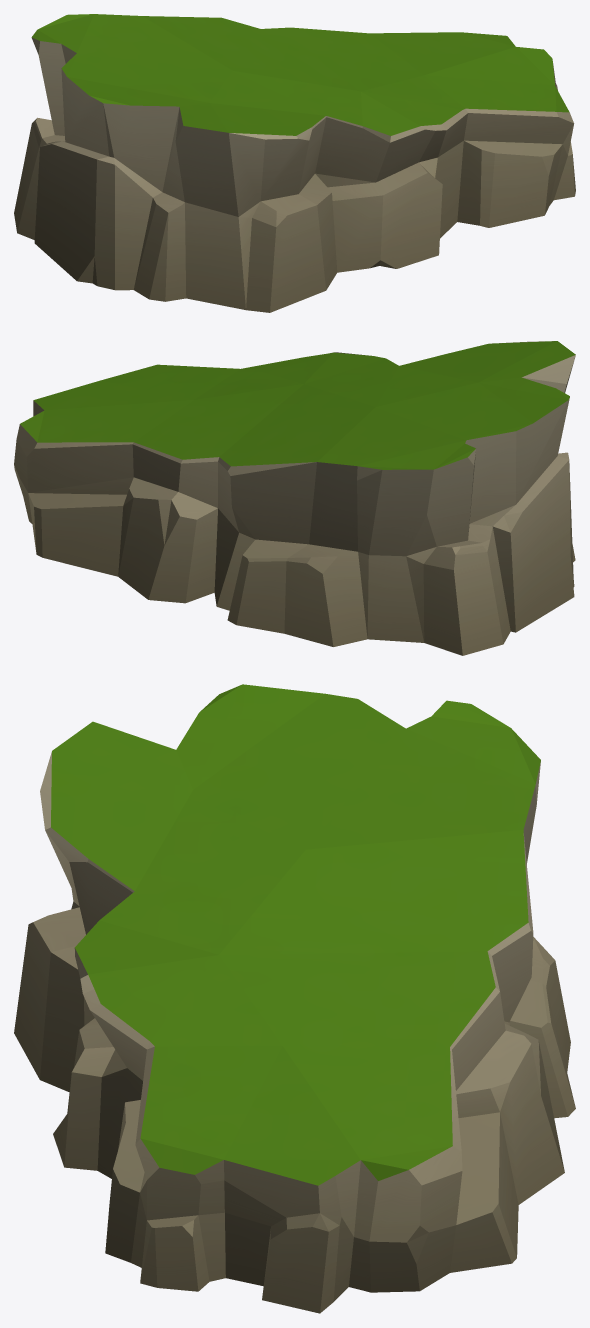
File: Rock_BigGrass_03.fbx
3 views of the same model, one above another, from view 1: azimuth 30°, elevation 25°; view 2: azimuth 150°, elevation 25°; view 3: azimuth 270°, elevation 25° (orthographic). The views are drawn at different scales.
Visible parts, largest first — view 1: Rock_BigGrass_03; view 2: Rock_BigGrass_03; view 3: Rock_BigGrass_03.
Boxes of the visible parts, left/top/right/bottom form: Rock_BigGrass_03: left=14, top=14, right=575, bottom=312; Rock_BigGrass_03: left=14, top=341, right=575, bottom=655; Rock_BigGrass_03: left=14, top=684, right=575, bottom=1313.
Bounding box in the file's own units: 5280 × 1873 × 3471.
